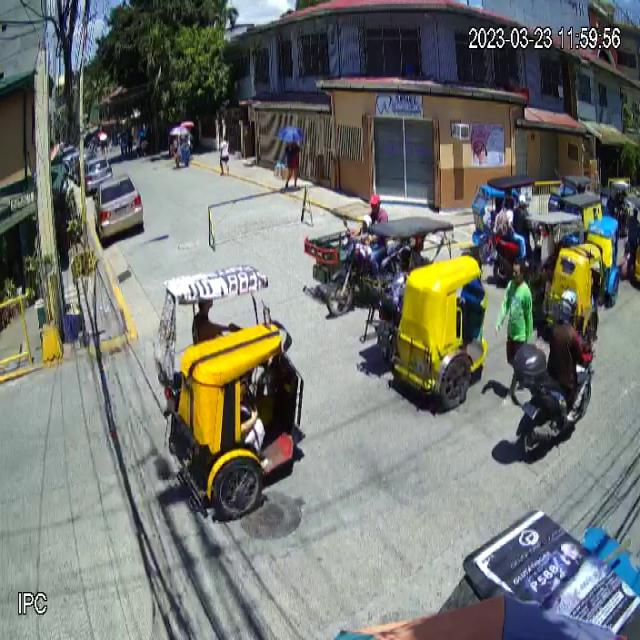Tricycle: (152, 261, 306, 520), (365, 215, 490, 411)
